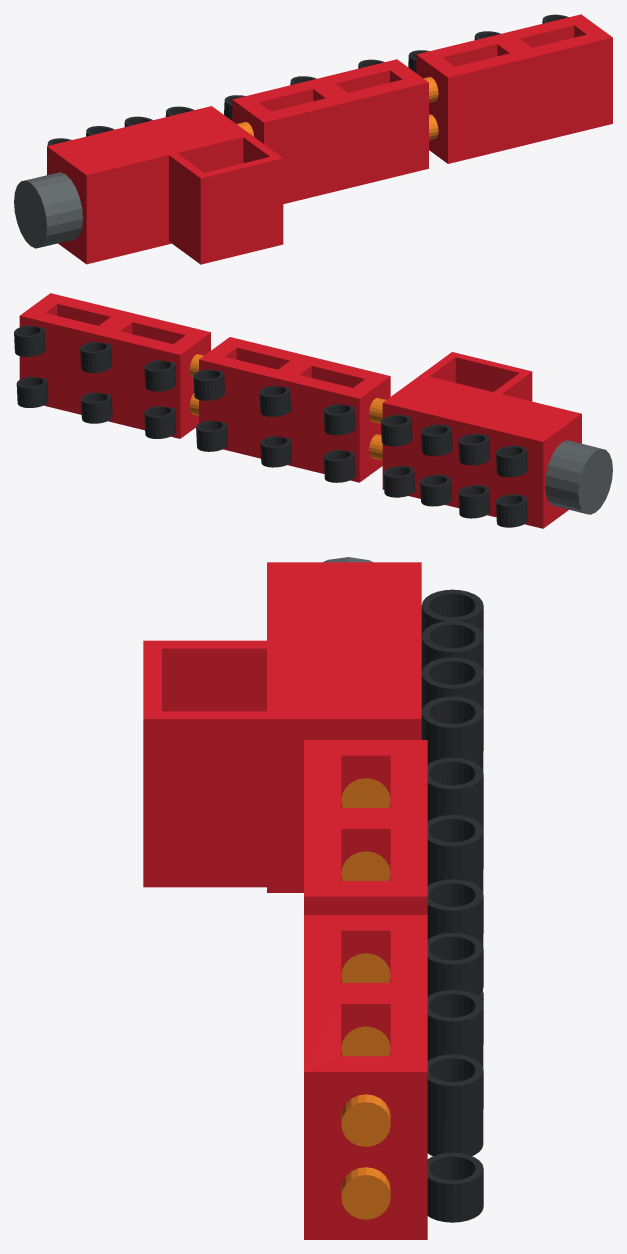
Rendered from tinker.obj.
3 renders of one model, top to bottom at view 1: azimuth 30°, elevation 25°; view 2: azimuth 150°, elevation 25°; view 3: azimuth 270°, elevation 25°, orthographic. The views are drawn at different scales.
Visible parts, largest first — view 1: group_0_15277357, group_0_6383466, group_0_2829873, group_0_16089887; view 2: group_0_15277357, group_0_2829873, group_0_6383466, group_0_16089887; view 3: group_0_15277357, group_0_2829873, group_0_16089887.
Boxes of the visible parts, x1=… form: group_0_15277357: x1=47, y1=14, x2=612, y2=264; group_0_6383466: x1=14, y1=172, x2=82, y2=248; group_0_2829873: x1=47, y1=14, x2=568, y2=145; group_0_16089887: x1=237, y1=77, x2=438, y2=140; group_0_15277357: x1=19, y1=293, x2=581, y2=528; group_0_2829873: x1=14, y1=325, x2=527, y2=527; group_0_6383466: x1=545, y1=440, x2=612, y2=514; group_0_16089887: x1=189, y1=354, x2=385, y2=460; group_0_15277357: x1=143, y1=562, x2=427, y2=1239; group_0_2829873: x1=421, y1=589, x2=483, y2=1222; group_0_16089887: x1=341, y1=778, x2=390, y2=1219.
Bounding box in the file's own units: 211 × 31 × 55.02.
